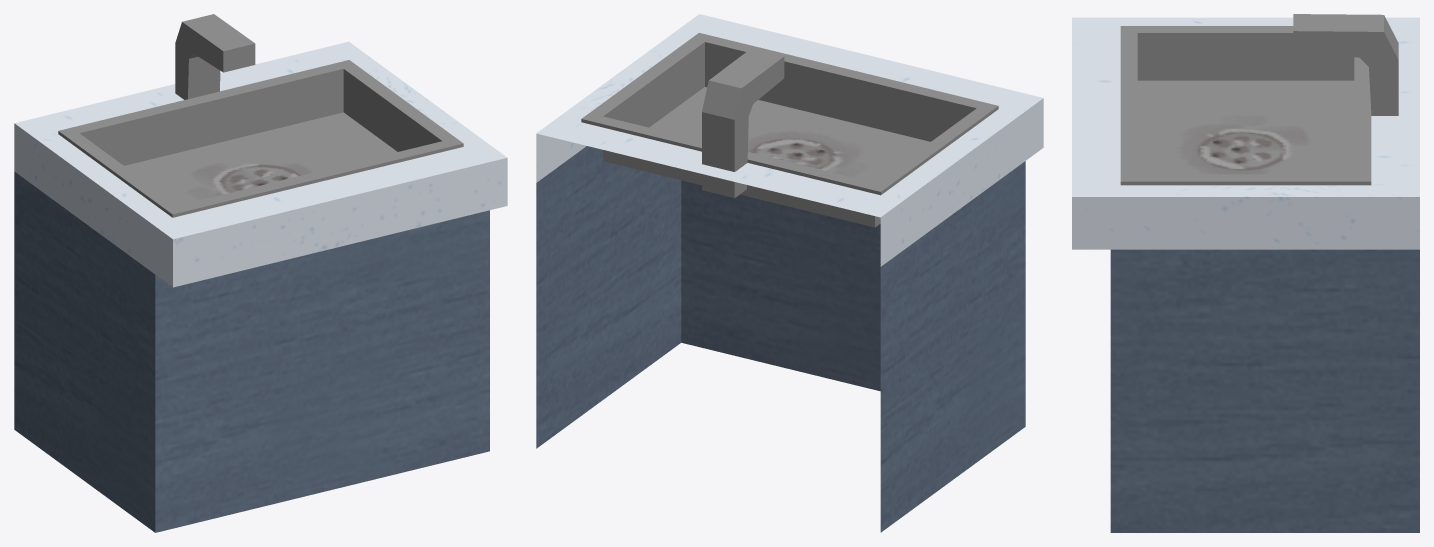
Rendered from sink.fbx.
The picture shows the model from 3 angles, left to right: view 1: azimuth 30°, elevation 25°; view 2: azimuth 150°, elevation 25°; view 3: azimuth 270°, elevation 25°; orthographic projection. The views are drawn at different scales.
Visible parts, largest first — view 1: counter sink, Cube.011; view 2: counter sink, Cube.011; view 3: counter sink, Cube.011.
Boxes of the visible parts, x1=… form: counter sink: x1=14, y1=41, x2=507, y2=532; Cube.011: x1=175, y1=14, x2=255, y2=99; counter sink: x1=536, y1=14, x2=1043, y2=532; Cube.011: x1=702, y1=48, x2=784, y2=197; counter sink: x1=1072, y1=17, x2=1419, y2=532; Cube.011: x1=1293, y1=14, x2=1398, y2=115.
Bounding box in the file's own units: 166 × 182 × 136.
